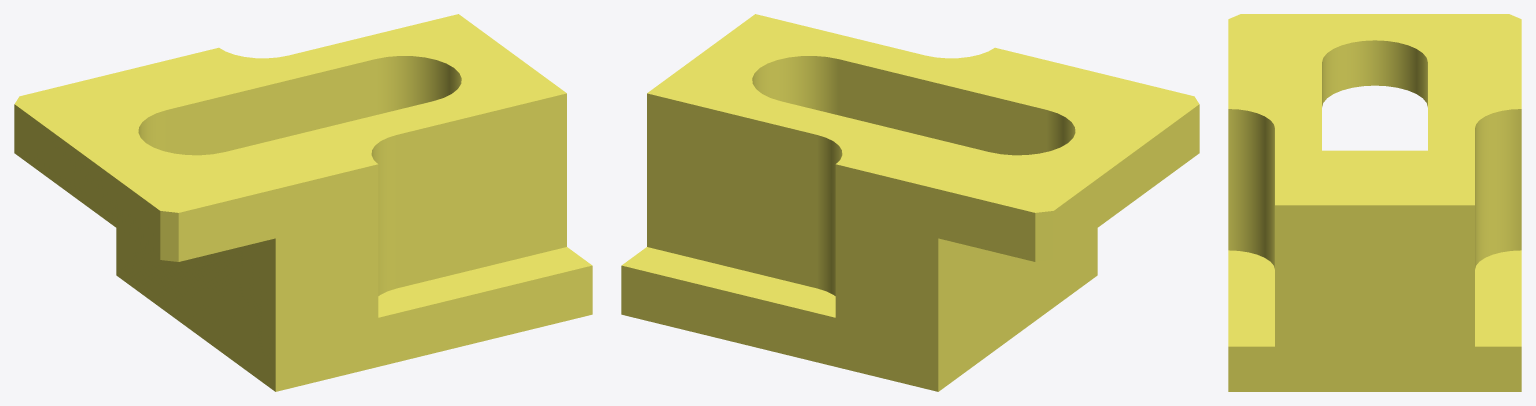
3 renders of one model, left to right at view 1: azimuth 30°, elevation 25°; view 2: azimuth 150°, elevation 25°; view 3: azimuth 270°, elevation 25°, orthographic. The views are drawn at different scales.
Visible parts, largest first — view 1: 628; view 2: 628; view 3: 628.
Boxes of the visible parts, x1,y1,x2,y2 form: 628: [14, 14, 592, 391]; 628: [621, 14, 1199, 391]; 628: [1228, 14, 1521, 391].
Size of the model in its own units: 0.0725 by 0.033 by 0.047.
